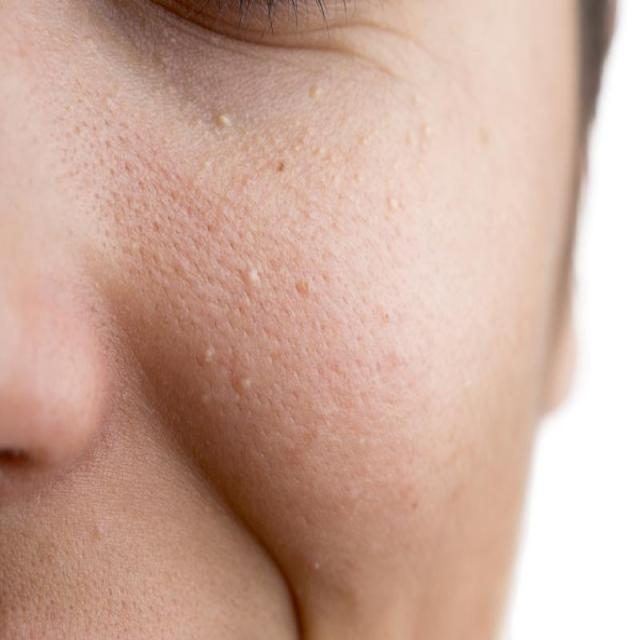flat_wart: (298, 64, 347, 125)
milium: (182, 339, 278, 410), (235, 221, 266, 316), (213, 92, 239, 155), (306, 552, 326, 587)
